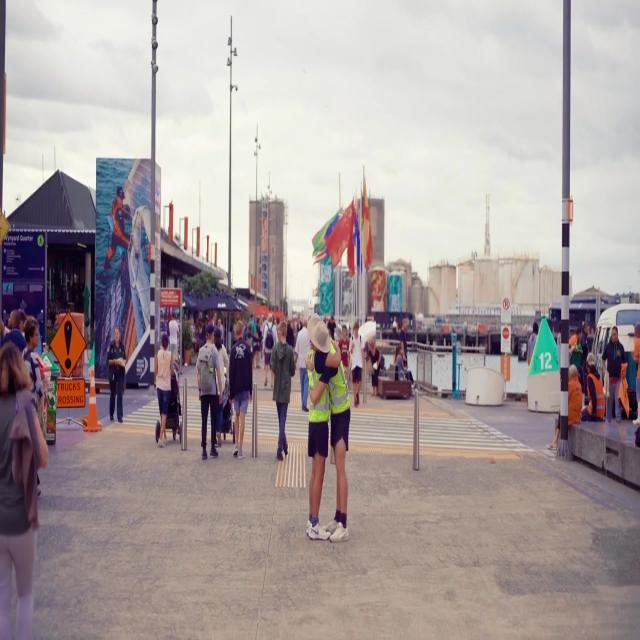Reflective-Jacket: (301, 356, 333, 430), (330, 345, 350, 414)
